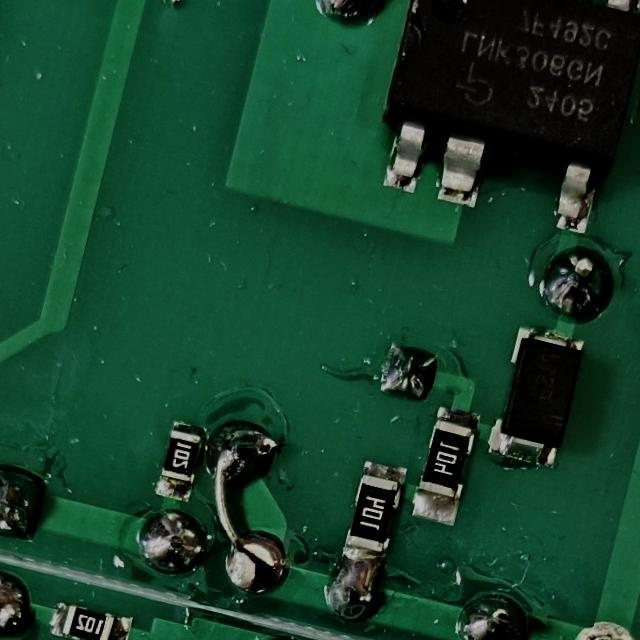chip-resistor: (406, 399, 486, 531), (338, 454, 410, 570), (149, 415, 211, 507), (43, 595, 137, 640)
diode: (480, 318, 592, 479)
ic: (354, 0, 640, 247)
